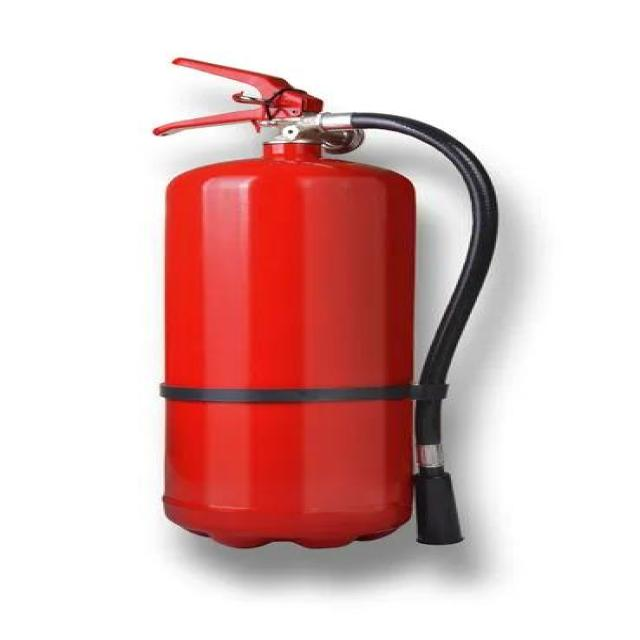fire_extinguisher: (140, 51, 507, 550)
